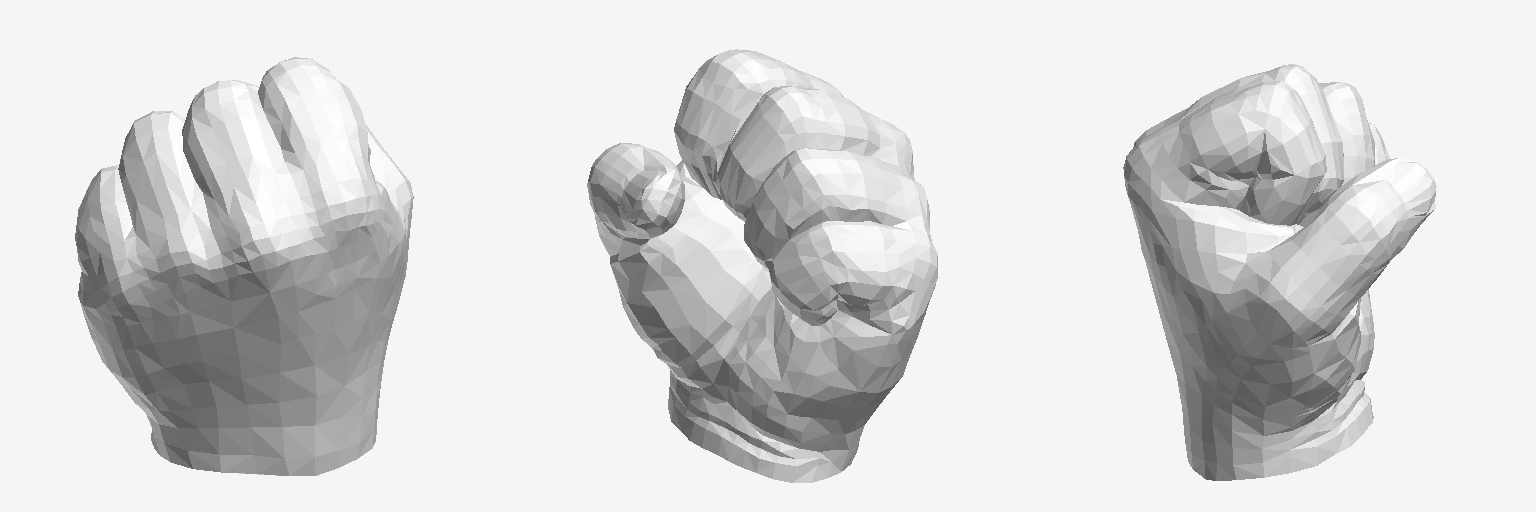
The model's file is rockRR.obj.
3 renders of one model, left to right at view 1: azimuth 30°, elevation 25°; view 2: azimuth 150°, elevation 25°; view 3: azimuth 270°, elevation 25°, orthographic.
Parts seen in each view (by area): view 1: Object.1; view 2: Object.1; view 3: Object.1.
Boxes of the visible parts, box(x1,y1,x2,y2) form: Object.1: box(75, 57, 413, 475); Object.1: box(587, 49, 937, 482); Object.1: box(1123, 64, 1436, 480).
Size of the model in its own units: 0.8886 by 1.01 by 0.7588.